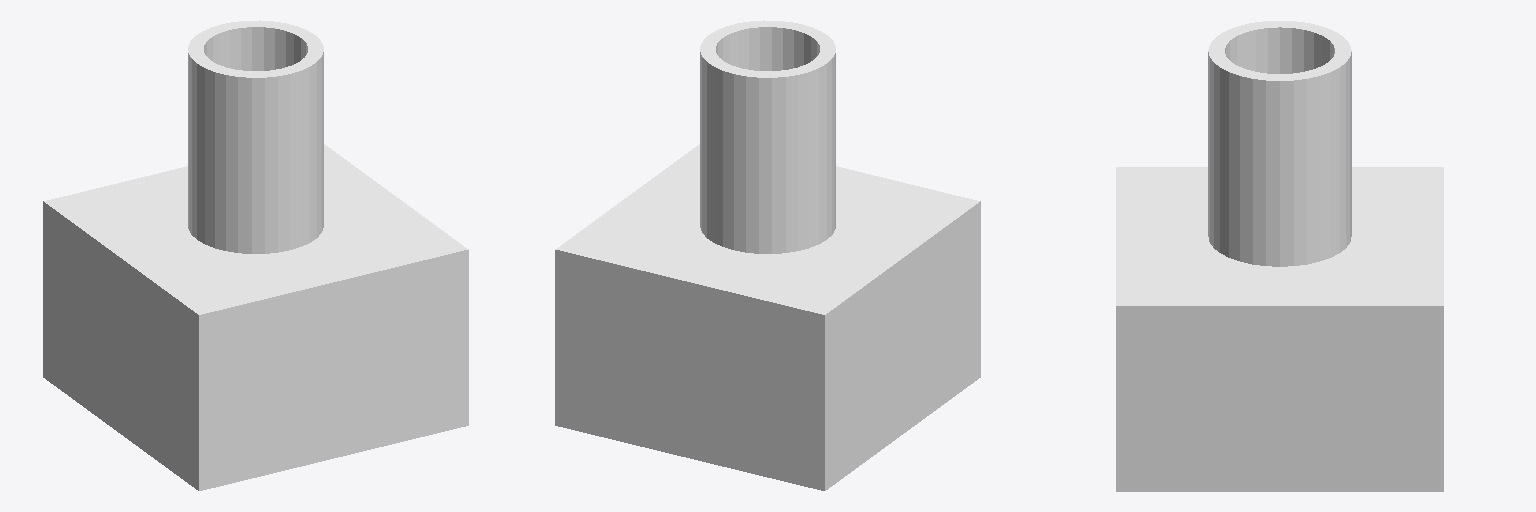
URDF robot description (cylinder_shell):
<robot name="cylinder_shell">
	<link name="_name">
		<visual>
			<origin rpy="0 0 0" xyz="2.3743223435535813e-19 1.6323466111930875e-19 -0.006228400716586238" />
			<geometry>
				<mesh filename="cylinder_shell.obj" scale=".001 .001 .001" />
			</geometry>
			<material name="texture">
				<color rgba="1.0 1.0 1.0 1.0" />
			</material>
		</visual>
		<collision>
			<geometry>
				<mesh filename="cylinder_shell_vhacd.obj" scale=".001 .001 .001" />
			</geometry>
		<origin rpy="0 0 0" xyz="2.3743223435535813e-19 1.6323466111930875e-19 -0.006228400716586238" /></collision>
		<inertial>
			<mass value="1.0" />
			<inertia ixx="1.0" ixy="0.0" ixz="0.0" iyy="1.0" iyz="0.0" izz="1.0" />
		</inertial>
	</link>
</robot>

--- Render facts (derived) ---
Views: 3 orthographic renders of the robot side by side, from view 1: azimuth 30°, elevation 25°; view 2: azimuth 150°, elevation 25°; view 3: azimuth 270°, elevation 25°.
Robot: cylinder_shell — 1 links, 0 joints (none); root link _name; default pose: all joints at 0.
Links seen in each view (by area): view 1: _name; view 2: _name; view 3: _name.
Boxes of the visible links, box(x1,y1,x2,y2) form: _name: box(43, 20, 468, 490); _name: box(555, 20, 980, 490); _name: box(1116, 21, 1443, 491).
Bounding box of the posed robot: 0.016 × 0.016 × 0.02 m (x, y, z).
Meshes: 1 distinct files referenced, 1 mesh visuals loaded (1 OBJ).